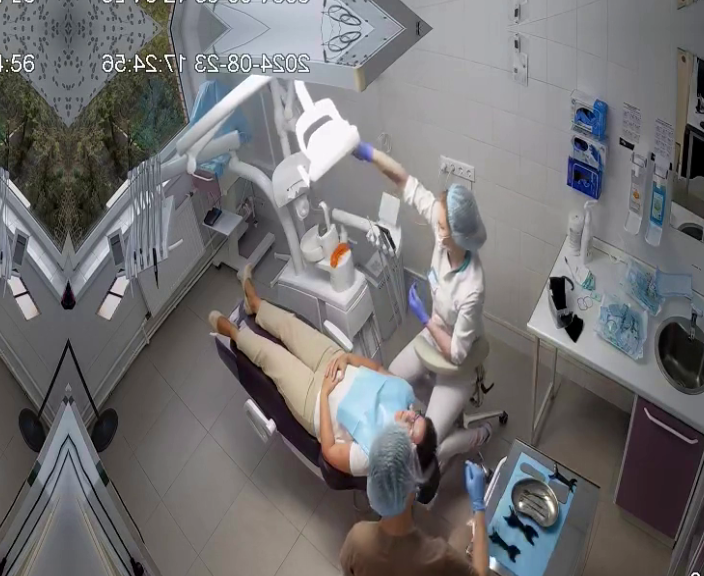Patient: (207, 265, 441, 503)
